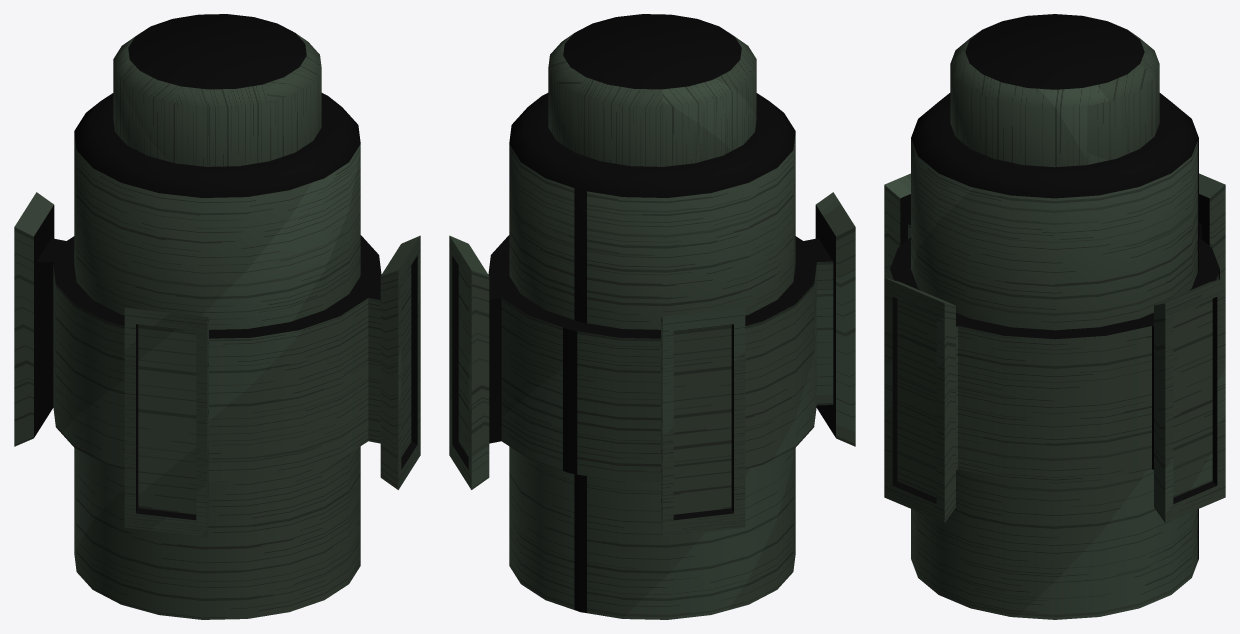
The model's file is Battery.fbx.
3 views of the same model, side by side, from view 1: azimuth 30°, elevation 25°; view 2: azimuth 150°, elevation 25°; view 3: azimuth 270°, elevation 25° (orthographic).
Parts seen in each view (by area): view 1: Cylinder; view 2: Cylinder; view 3: Cylinder.
Part boxes in pixels (x1=…): Cylinder: x1=14, y1=14, x2=420, y2=619; Cylinder: x1=449, y1=14, x2=855, y2=619; Cylinder: x1=884, y1=14, x2=1225, y2=619.
Size of the model in its own units: 317 by 520 by 317.
